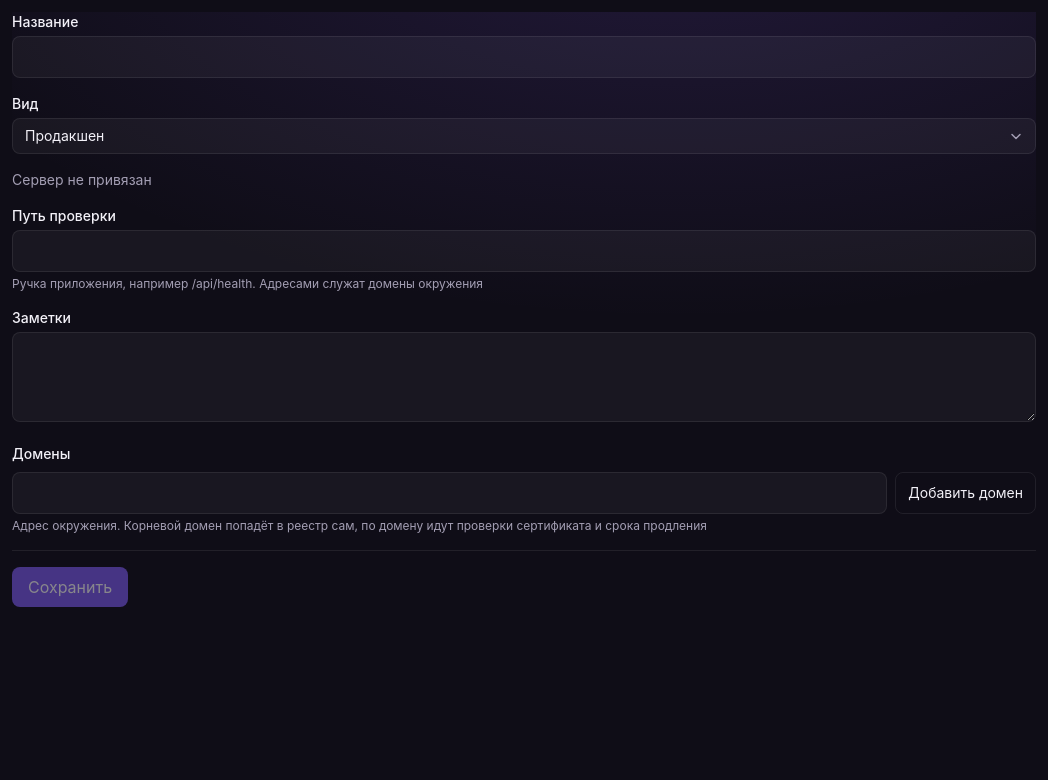
Test: EnvironmentForm › известные адреса › передаёт список в поле доменов
The image size is (1048, 780).
Step 1. Type "api" into the field labelled "Домены" → (450, 493), box [12,472,887,514]
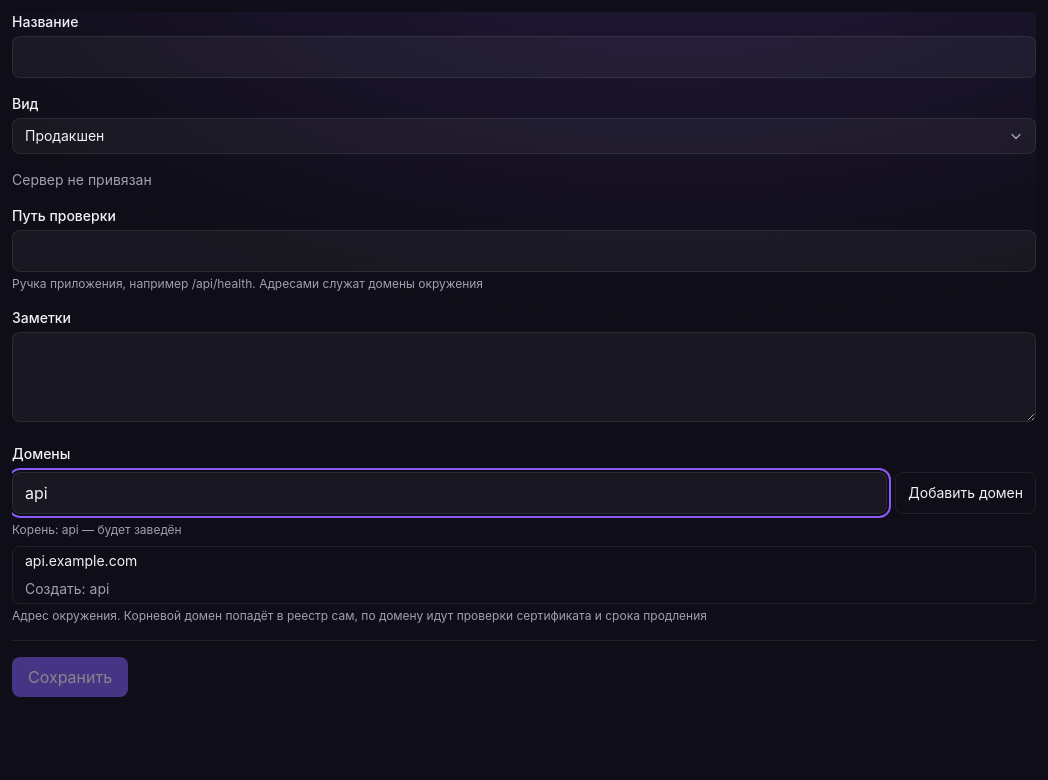
Now the option "api.example.com" is shown, box [25,552,137,569]
